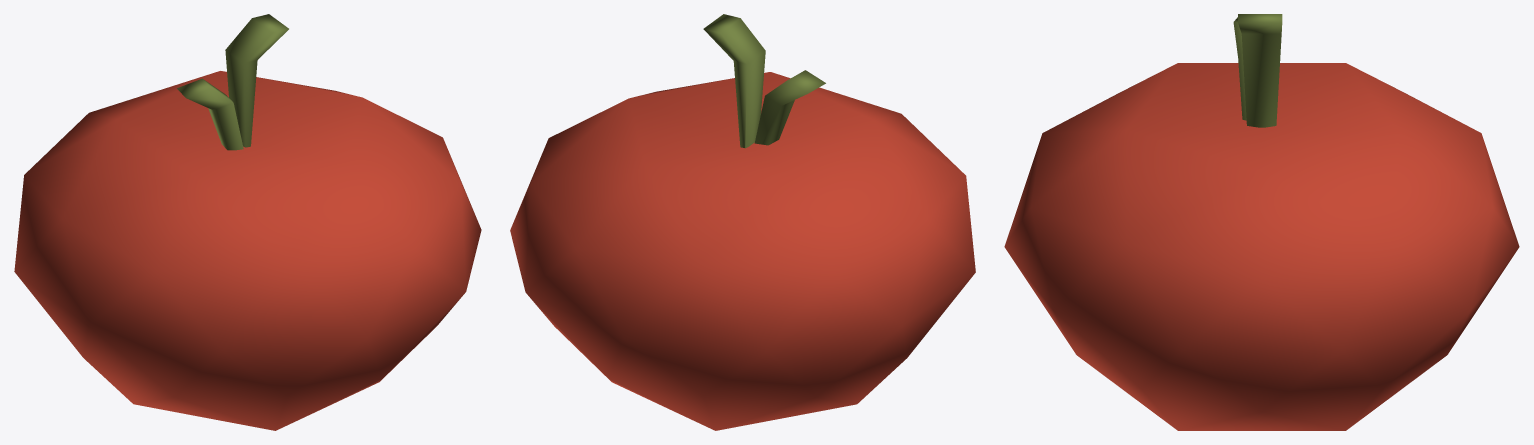
The model's file is Tomato_01.glb.
3 renders of one model, left to right at view 1: azimuth 30°, elevation 25°; view 2: azimuth 150°, elevation 25°; view 3: azimuth 270°, elevation 25°, orthographic. The views are drawn at different scales.
Visible parts, largest first — view 1: FoodTomato_01; view 2: FoodTomato_01; view 3: FoodTomato_01.
Part boxes in pixels (left/top/right/bottom): FoodTomato_01: left=14, top=14, right=481, bottom=430; FoodTomato_01: left=510, top=14, right=975, bottom=430; FoodTomato_01: left=1004, top=14, right=1519, bottom=430.
Size of what is drawn, in the model's own units: 0.3182 by 0.269 by 0.3346.
Materials: 1 (1 with a texture image).
